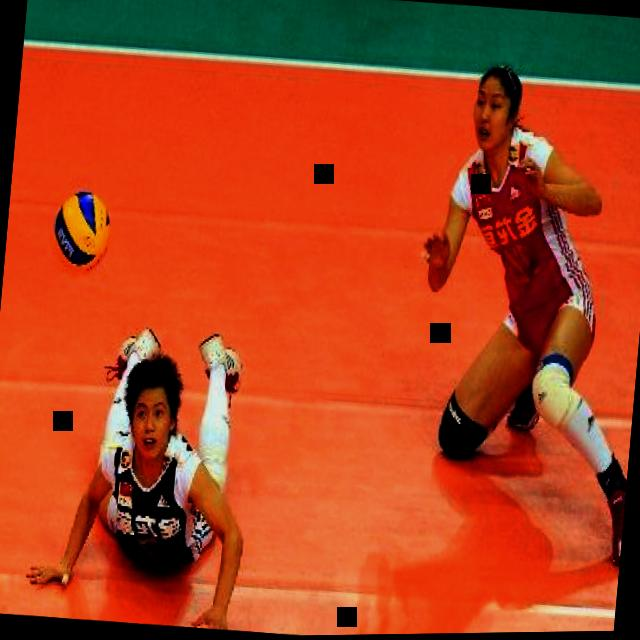Fall-Detected: (393, 64, 640, 562)
